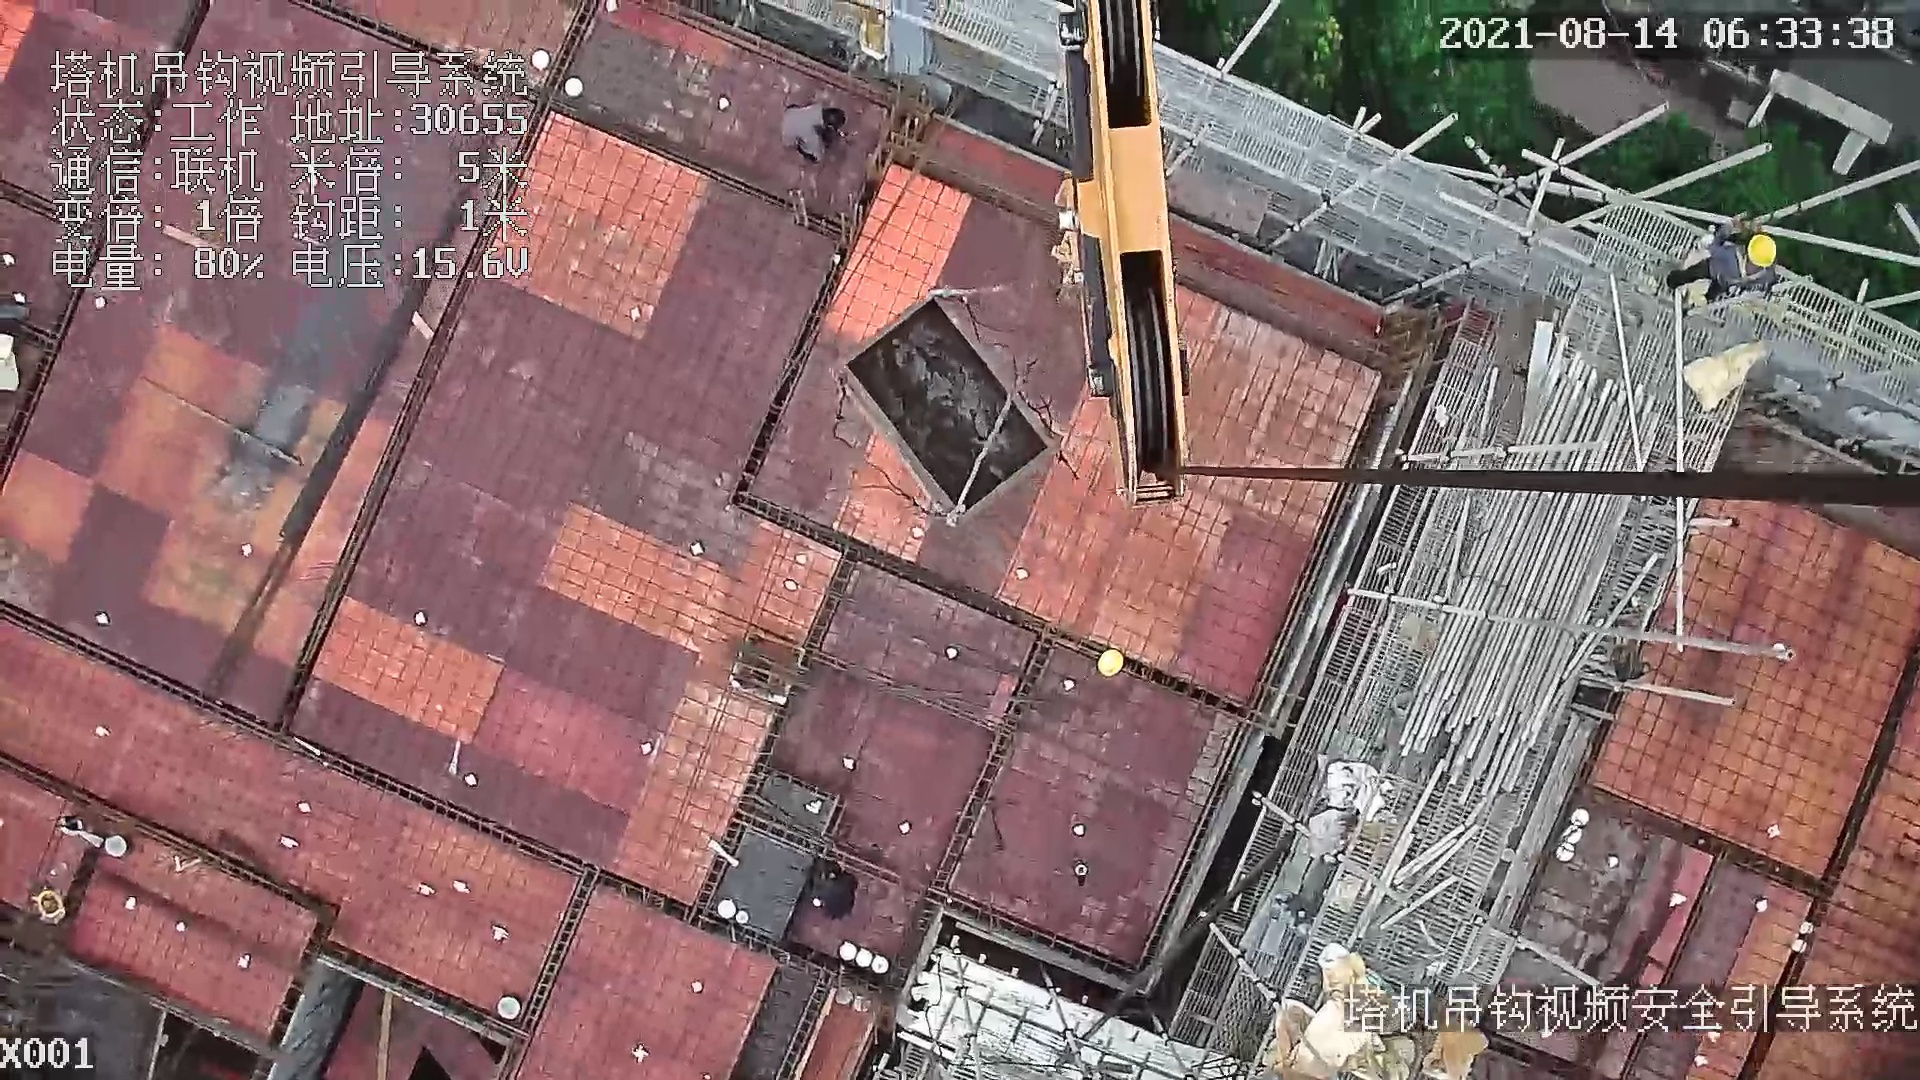helmet: (1091, 642, 1131, 681), (1747, 231, 1783, 269)
hook: (1031, 1, 1192, 499)
hopper: (829, 283, 1062, 542)
person: (1658, 217, 1783, 301), (769, 89, 853, 169), (803, 855, 870, 919)
scaffold: (1446, 360, 1623, 790)
